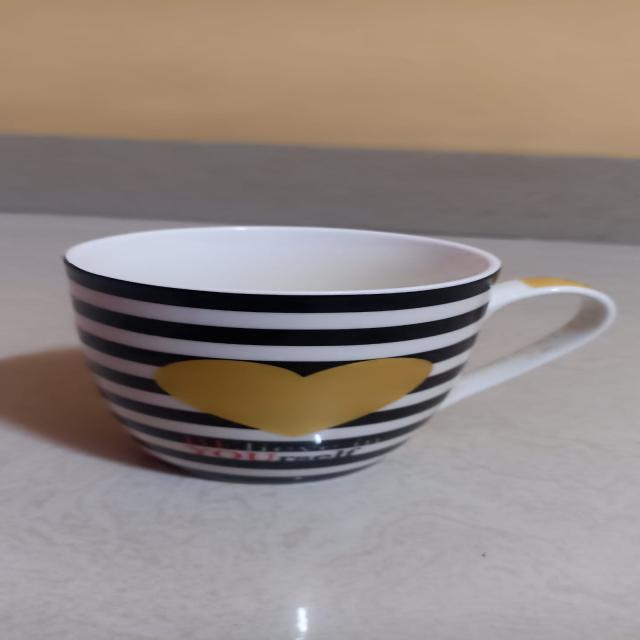cup: (42, 218, 626, 494)
